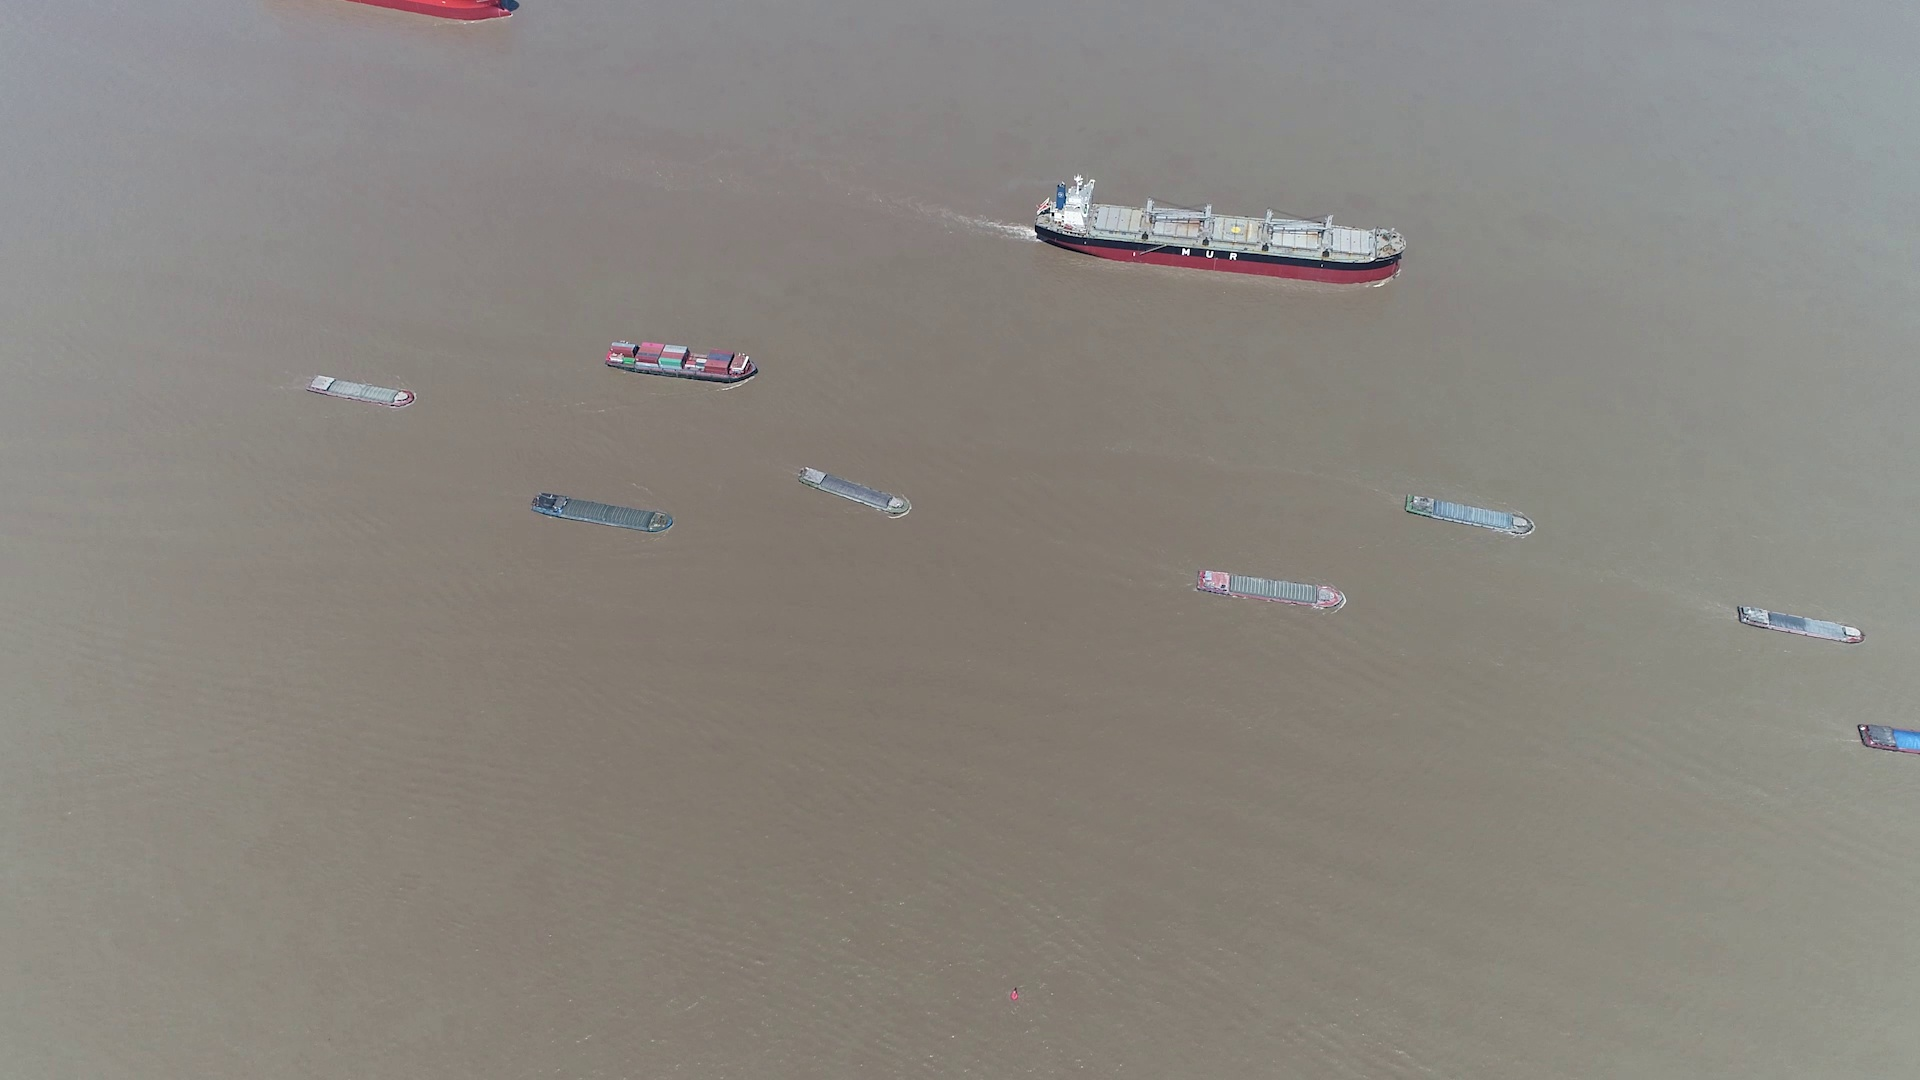ship: (1040, 182, 1406, 284), (607, 339, 760, 382), (1197, 568, 1346, 611), (799, 465, 913, 520), (529, 493, 674, 535), (1403, 493, 1534, 538), (1734, 603, 1866, 646), (306, 373, 415, 407), (1855, 723, 1919, 756)
